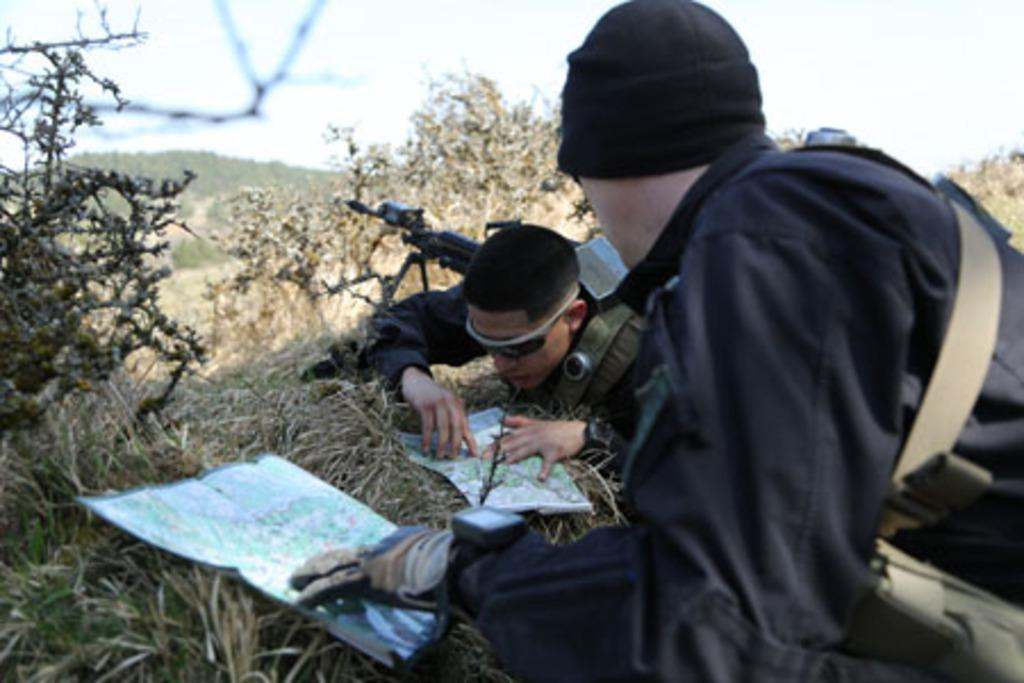Rifle: (339, 191, 512, 328)
